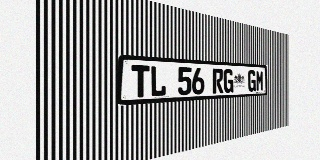5: (178, 67, 192, 95)
6: (192, 67, 204, 95)
G: (224, 69, 233, 93), (248, 70, 256, 92)
L: (150, 66, 166, 97)
M: (256, 70, 263, 91)
R: (213, 68, 223, 94)
T: (131, 65, 149, 98)
